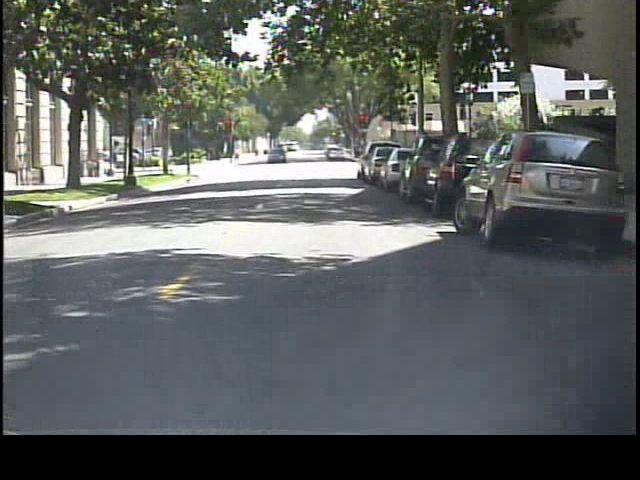person: (231, 140, 244, 167)
